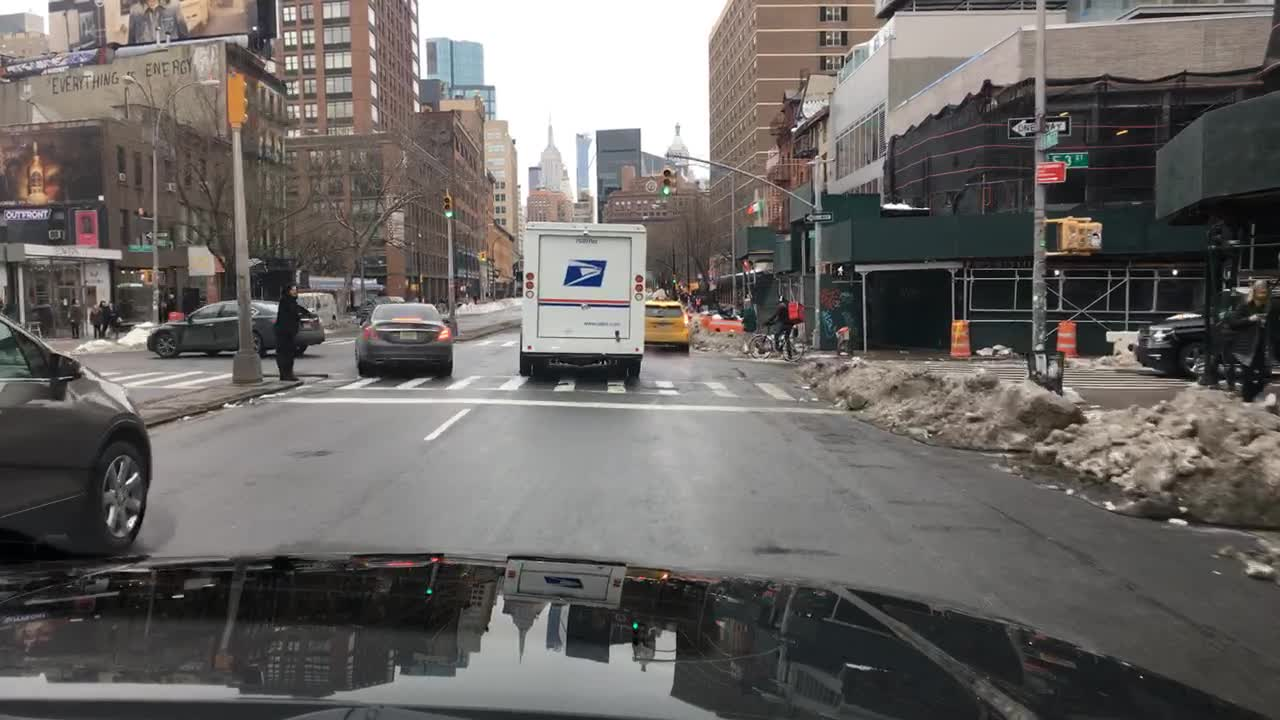bike: (746, 329, 801, 359)
bus: (517, 221, 646, 386)
car: (0, 306, 155, 587), (1133, 274, 1277, 379), (145, 298, 326, 357), (353, 301, 453, 378), (643, 298, 693, 354), (291, 290, 337, 325)
person: (1223, 278, 1274, 404), (268, 282, 319, 381), (67, 295, 83, 339), (89, 302, 105, 343), (99, 297, 113, 340)
rider: (762, 293, 801, 360)
traffic light: (1058, 215, 1101, 255), (226, 68, 249, 125), (442, 191, 453, 218), (661, 164, 670, 194), (832, 259, 846, 278), (132, 205, 151, 218), (477, 248, 487, 264), (673, 273, 677, 283)
traffic sign: (1008, 113, 1070, 137), (1045, 151, 1089, 170), (1034, 161, 1068, 182), (1042, 129, 1058, 148), (126, 243, 153, 252), (804, 213, 834, 220), (143, 231, 167, 237), (153, 240, 166, 247)
